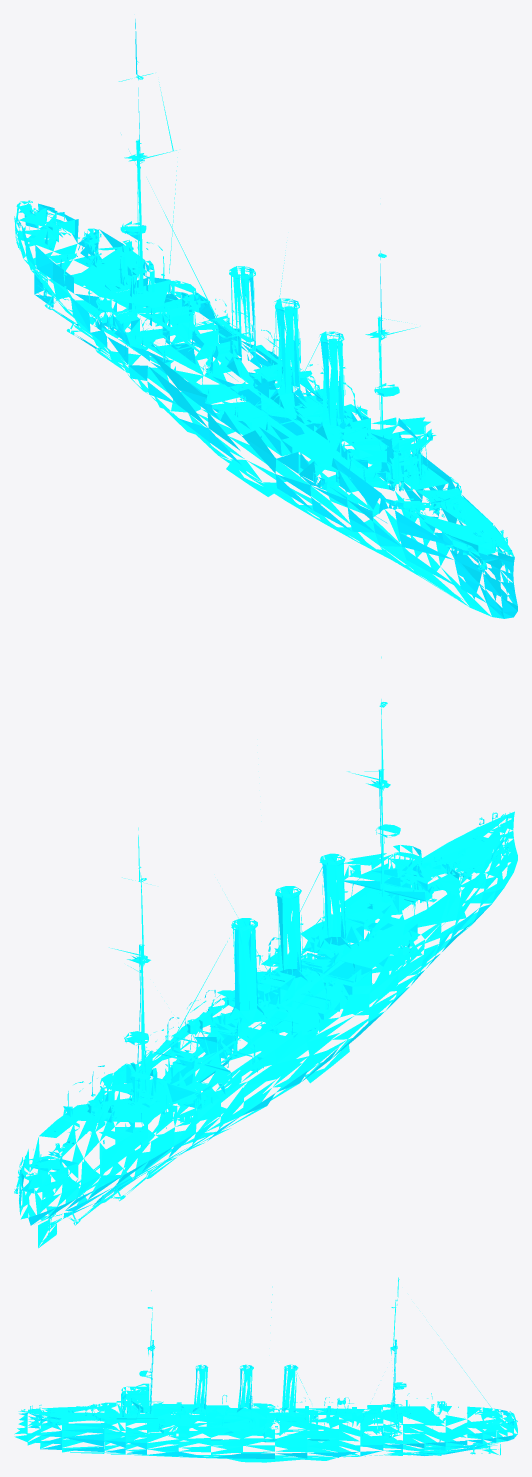
File: Drezden.glb
The picture shows the model from 3 angles, top to bottom: view 1: azimuth 30°, elevation 25°; view 2: azimuth 150°, elevation 25°; view 3: azimuth 270°, elevation 25°; orthographic projection. The views are drawn at different scales.
Size of the model in its own units: 0.9238 by 3.08 by 7.88.
